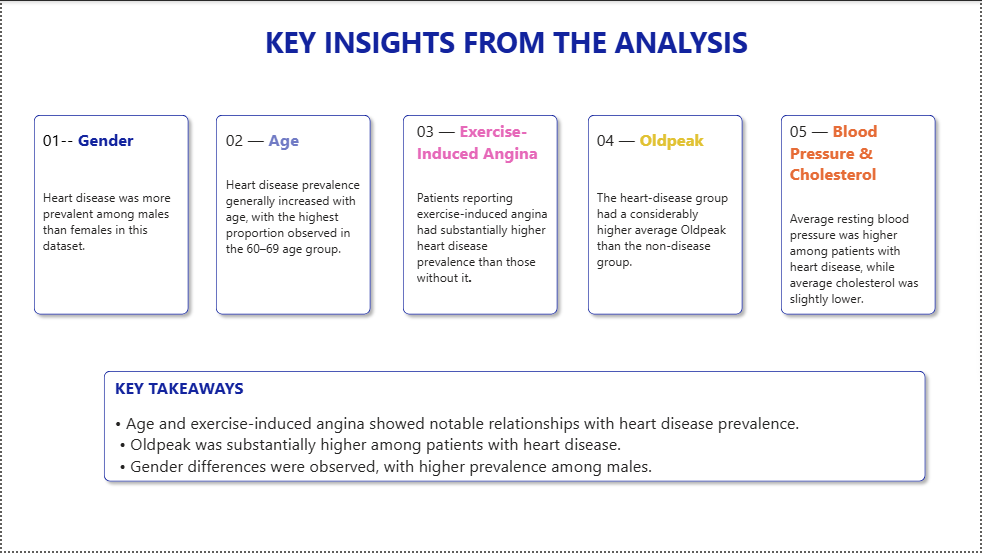

What the dashboard file says about the page in this screenshot:
{"tool":"powerbi","page":{"name":"Insight and Recommendations","canvas":[1280,720],"ordinal":1},"visuals":[{"type":"shape","box":[123.8,474.7,1093.5,162.8],"z":0},{"type":"shape","box":[1010.9,139.6,220.4,279.2],"z":1000},{"type":"shape","box":[758.2,139.6,220.4,279.2],"z":2000},{"type":"shape","box":[270.4,139.6,220.4,279.2],"z":3000},{"type":"shape","box":[32.3,139.6,220.4,279.2],"z":4000},{"type":"textbox","box":[339.4,23.5,711.2,66.1],"z":5000},{"type":"textbox","box":[42.4,162.8,191.6,232.3],"z":6000},{"type":"textbox","box":[288.2,162.8,189.9,242.4],"z":7000},{"type":"textbox","box":[773.1,162.8,184.8,242.4],"z":8000},{"type":"textbox","box":[142.4,486.6,1054.5,150.9],"z":9000},{"type":"shape","box":[515.8,139.6,220.4,279.2],"z":10000},{"type":"textbox","box":[1025.7,150.9,191.6,254.3],"z":11000},{"type":"textbox","box":[537.4,150.9,183.1,254.3],"z":12000}]}

Visuals, with their boxes in screenshot pixels (x1, y1, x2, y2), scaled from the page's 1280x720 canvas onto the 982x555 screenshot:
shape: x1=95, y1=366, x2=934, y2=491
shape: x1=776, y1=108, x2=945, y2=323
shape: x1=582, y1=108, x2=751, y2=323
shape: x1=207, y1=108, x2=377, y2=323
shape: x1=25, y1=108, x2=194, y2=323
textbox: x1=260, y1=18, x2=806, y2=69
textbox: x1=33, y1=125, x2=180, y2=305
textbox: x1=221, y1=125, x2=367, y2=312
textbox: x1=593, y1=125, x2=735, y2=312
textbox: x1=109, y1=375, x2=918, y2=491
shape: x1=396, y1=108, x2=565, y2=323
textbox: x1=787, y1=116, x2=934, y2=312
textbox: x1=412, y1=116, x2=553, y2=312
